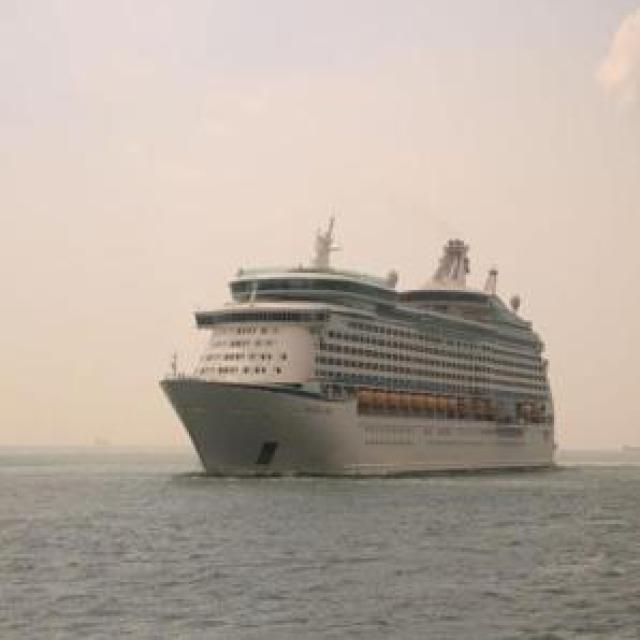passenger ship: (155, 223, 554, 475)
